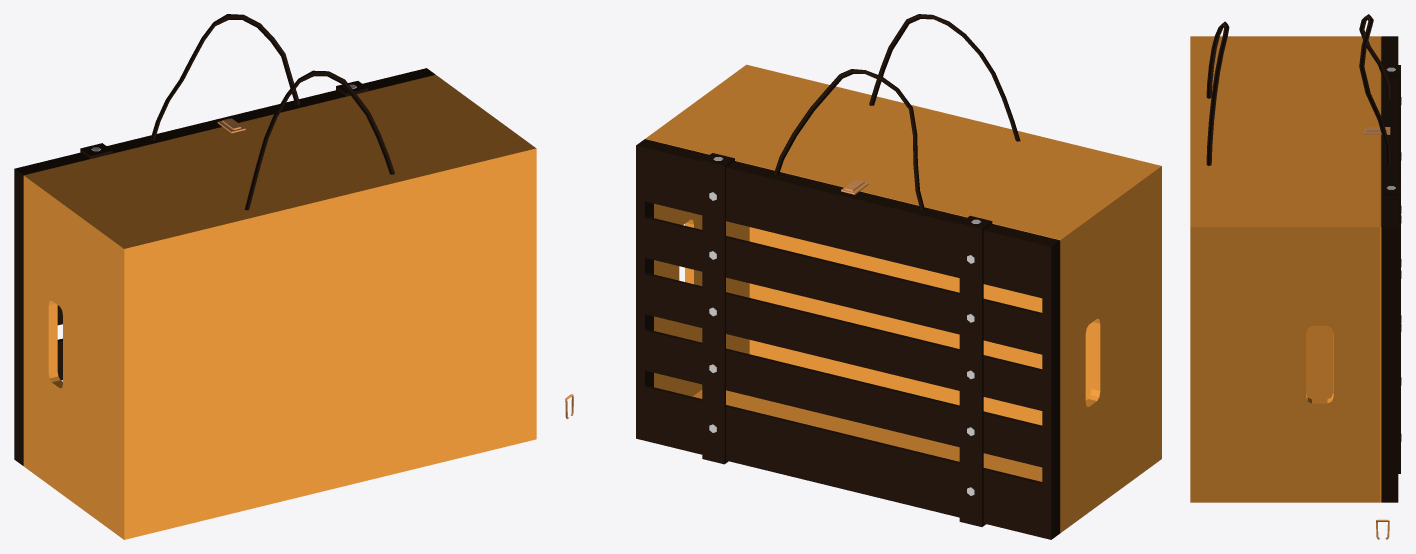
The model's file is Wine Box.fbx.
3 renders of one model, left to right at view 1: azimuth 30°, elevation 25°; view 2: azimuth 150°, elevation 25°; view 3: azimuth 270°, elevation 25°, orthographic. The views are drawn at different scales.
Parts seen in each view (by area): view 1: Node 0, Node 1; view 2: Node 1, Node 0; view 3: Node 0, Node 1.
Boxes of the visible parts, x1=… form: Node 0: x1=23, y1=70, x2=536, y2=539; Node 1: x1=14, y1=14, x2=435, y2=465; Node 1: x1=636, y1=69, x2=1060, y2=539; Node 0: x1=645, y1=14, x2=1161, y2=532; Node 0: x1=1190, y1=21, x2=1381, y2=502; Node 1: x1=1359, y1=14, x2=1401, y2=502.
Size of the model in its own units: 0.2433 by 0.4945 by 0.6139.
